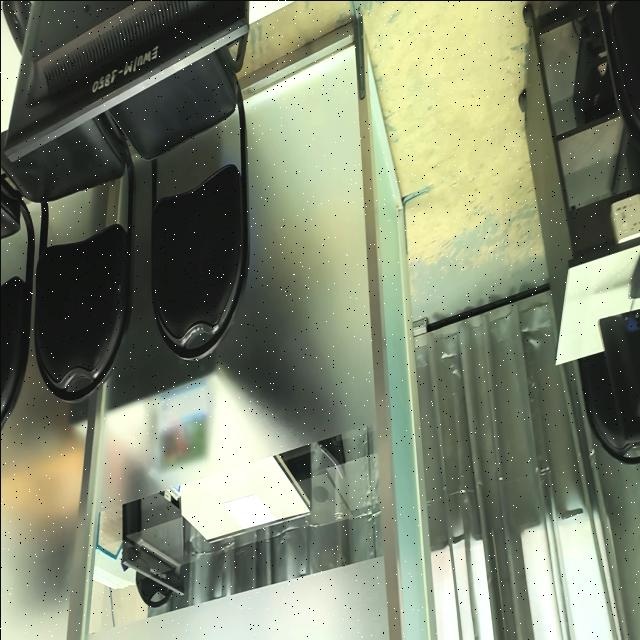Chair: (143, 54, 244, 362), (30, 129, 136, 402), (0, 176, 32, 436), (578, 357, 622, 478), (610, 0, 640, 160)
Monitor: (8, 0, 240, 137), (120, 487, 184, 592), (607, 252, 640, 440)
